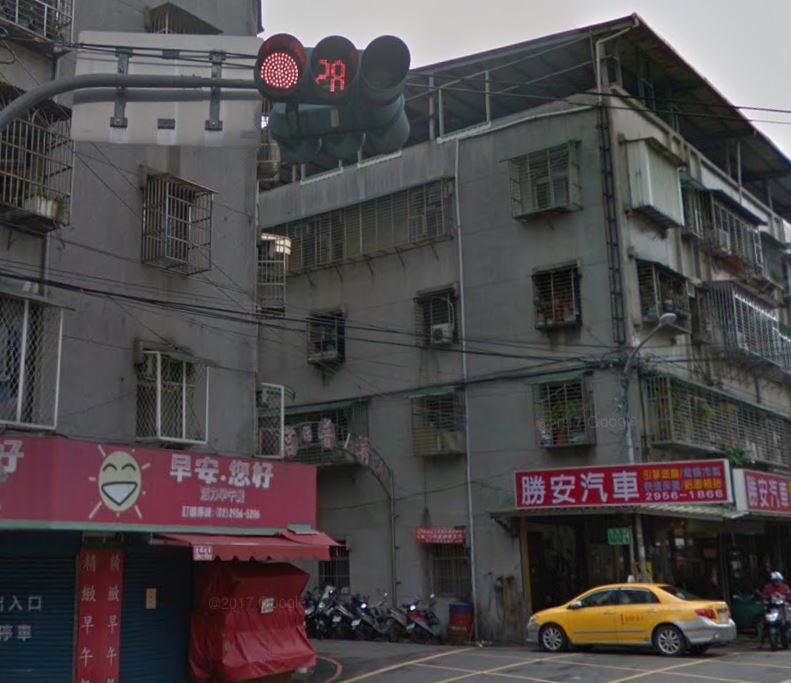Traffic_light_red: (254, 33, 412, 104)
